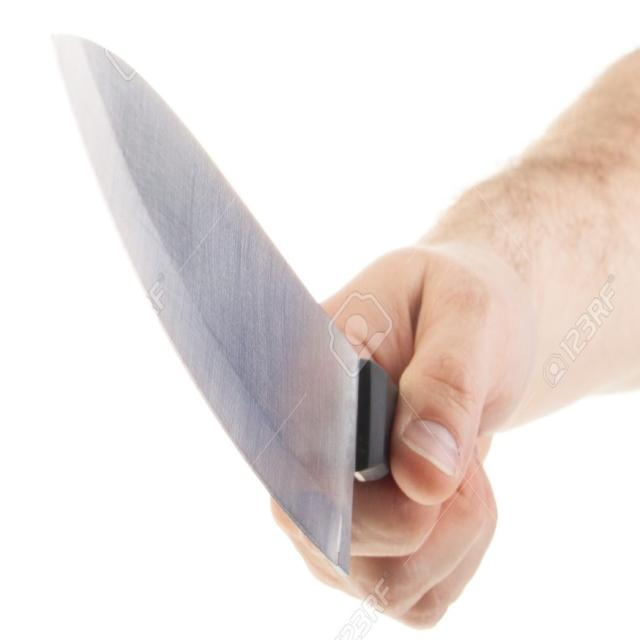knife: (38, 27, 402, 577)
